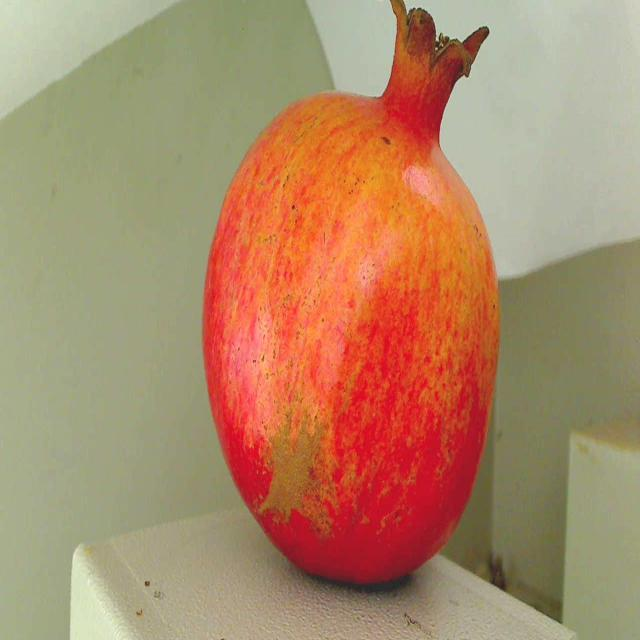pomegranate: (191, 0, 513, 596)
